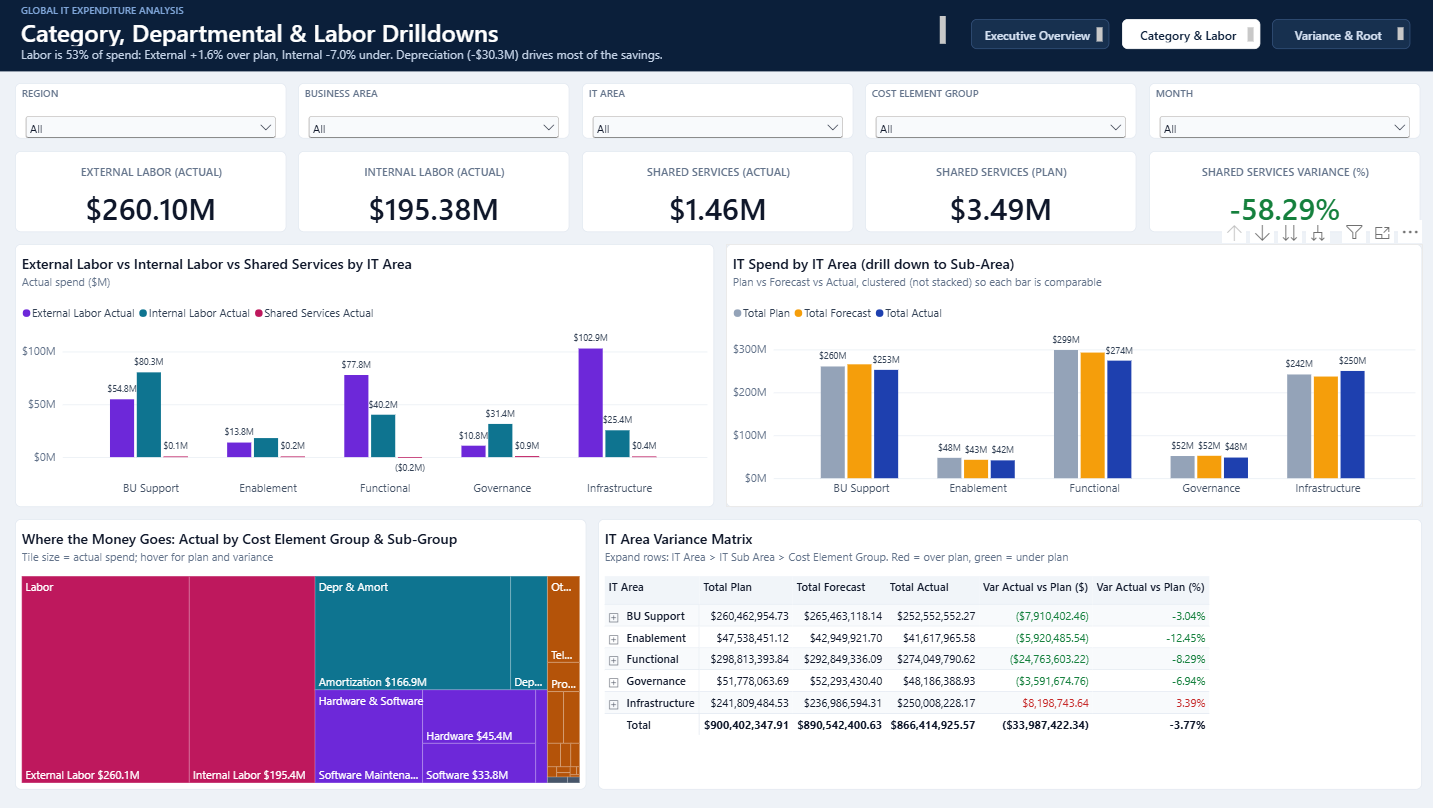

What the dashboard file says about the page in this screenshot:
{"tool":"powerbi","page":{"name":"Category & Labor Drilldowns","canvas":[1920,1080],"ordinal":1},"visuals":[{"type":"textbox","box":[0,0,1920,100],"z":0},{"type":"textbox","box":[32,8,700,22],"z":1000},{"type":"textbox","box":[32,26,1230,40],"z":2000},{"type":"textbox","box":[32,66,1240,28],"z":3000},{"type":"textbox","box":[1296,30,184,40],"z":4000},{"type":"actionButton","box":[1296,30,184,40],"z":5000},{"type":"textbox","box":[1496,30,184,40],"z":6000},{"type":"actionButton","box":[1496,30,184,40],"z":7000},{"type":"textbox","box":[1696,30,184,40],"z":8000},{"type":"actionButton","box":[1696,30,184,40],"z":9000},{"type":"slicer","title":"REGION","fields":{"Values":["IT_Expenditure.Region"]},"box":[24,116,361,74],"z":10000},{"type":"slicer","title":"BUSINESS AREA","fields":{"Values":["IT_Expenditure.Business Area"]},"box":[401,116,361,74],"z":11000},{"type":"slicer","title":"IT AREA","fields":{"Values":["IT_Expenditure.IT Area"]},"box":[778,116,361,74],"z":12000},{"type":"slicer","title":"COST ELEMENT GROUP","fields":{"Values":["IT_Expenditure.Cost Element Group"]},"box":[1155,116,361,74],"z":13000},{"type":"slicer","title":"MONTH","fields":{"Values":["IT_Expenditure.Month"]},"box":[1532,116,361,74],"z":14000},{"type":"card","title":"EXTERNAL LABOR (ACTUAL)","fields":{"Values":["Analysis.External Labor Actual"]},"box":[24,206,361,108],"z":15000},{"type":"card","title":"INTERNAL LABOR (ACTUAL)","fields":{"Values":["Analysis.Internal Labor Actual"]},"box":[401,206,361,108],"z":16000},{"type":"card","title":"SHARED SERVICES (ACTUAL)","fields":{"Values":["Analysis.Shared Services Actual"]},"box":[778,206,361,108],"z":17000},{"type":"card","title":"SHARED SERVICES (PLAN)","fields":{"Values":["Analysis.Shared Services Plan"]},"box":[1155,206,361,108],"z":18000},{"type":"card","title":"SHARED SERVICES VARIANCE (%)","fields":{"Values":["Analysis.Shared Services Var (%)"]},"box":[1532,206,361,108],"z":19000},{"type":"clusteredColumnChart","title":"External Labor vs Internal Labor vs Shared Services by IT Area","fields":{"Category":["IT_Expenditure.IT Area"],"Y":["Analysis.External Labor Actual","Analysis.Internal Labor Actual","Analysis.Shared Services Actual"]},"box":[24,330,930,350],"z":20000},{"type":"clusteredColumnChart","title":"IT Spend by IT Area (drill down to Sub-Area)","fields":{"Category":["IT_Expenditure.IT Area","IT_Expenditure.IT Sub Area"],"Y":["Analysis.Total Plan","Analysis.Total Forecast","Analysis.Total Actual"]},"box":[970,330,926,350],"z":21000},{"type":"treemap","title":"Where the Money Goes: Actual by Cost Element Group & Sub-Group","fields":{"Details":["IT_Expenditure.Cost Element Sub Group"],"Group":["IT_Expenditure.Cost Element Group"],"Values":["Analysis.Total Actual"]},"box":[24,696,760,360],"z":22000},{"type":"pivotTable","title":"IT Area Variance Matrix","fields":{"Rows":["IT_Expenditure.IT Area","IT_Expenditure.IT Sub Area","IT_Expenditure.Cost Element Group"],"Values":["Analysis.Total Plan","Analysis.Total Forecast","Analysis.Total Actual","Analysis.Var Actual vs Plan ($)","Analysis.Var Actual vs Plan (%)"]},"box":[800,696,1096,360],"z":23000}]}

Visuals, with their boxes in screenshot pixels (x1, y1, x2, y2), scaled from the page's 1920x1080 canvas onto the 1433x808 screenshot:
textbox: crop(0, 0, 1432, 75)
textbox: crop(24, 6, 546, 22)
textbox: crop(24, 19, 942, 49)
textbox: crop(24, 49, 949, 70)
textbox: crop(967, 22, 1105, 52)
actionButton: crop(967, 22, 1105, 52)
textbox: crop(1117, 22, 1254, 52)
actionButton: crop(1117, 22, 1254, 52)
textbox: crop(1266, 22, 1403, 52)
actionButton: crop(1266, 22, 1403, 52)
"REGION" slicer: crop(18, 87, 287, 142)
"BUSINESS AREA" slicer: crop(299, 87, 569, 142)
"IT AREA" slicer: crop(581, 87, 850, 142)
"COST ELEMENT GROUP" slicer: crop(862, 87, 1131, 142)
"MONTH" slicer: crop(1143, 87, 1413, 142)
"EXTERNAL LABOR (ACTUAL)" card: crop(18, 154, 287, 235)
"INTERNAL LABOR (ACTUAL)" card: crop(299, 154, 569, 235)
"SHARED SERVICES (ACTUAL)" card: crop(581, 154, 850, 235)
"SHARED SERVICES (PLAN)" card: crop(862, 154, 1131, 235)
"SHARED SERVICES VARIANCE (%)" card: crop(1143, 154, 1413, 235)
"External Labor vs Internal Labor vs Shared Services by IT Area" clusteredColumnChart: crop(18, 247, 712, 509)
"IT Spend by IT Area (drill down to Sub-Area)" clusteredColumnChart: crop(724, 247, 1415, 509)
"Where the Money Goes: Actual by Cost Element Group & Sub-Group" treemap: crop(18, 521, 585, 790)
"IT Area Variance Matrix" pivotTable: crop(597, 521, 1415, 790)
